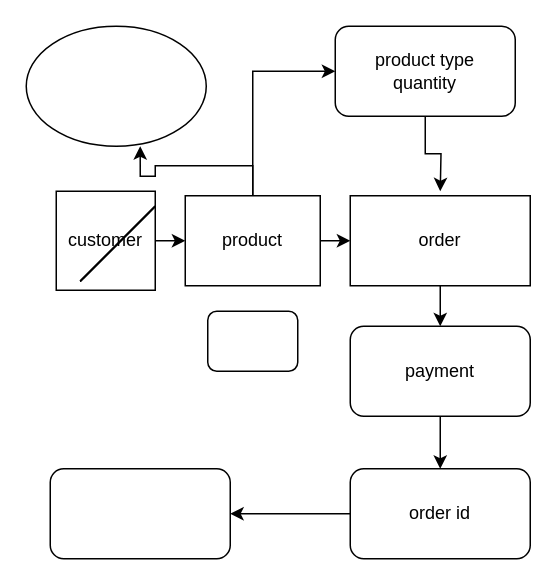
Some shapes in this 557 by 585 pixel diagram are drawn without their labels. Each missing label, with the centre of its shape:
"customer id" goes at [115,85].
"product mailer" goes at [139,513].
"product name" goes at [252,340].
